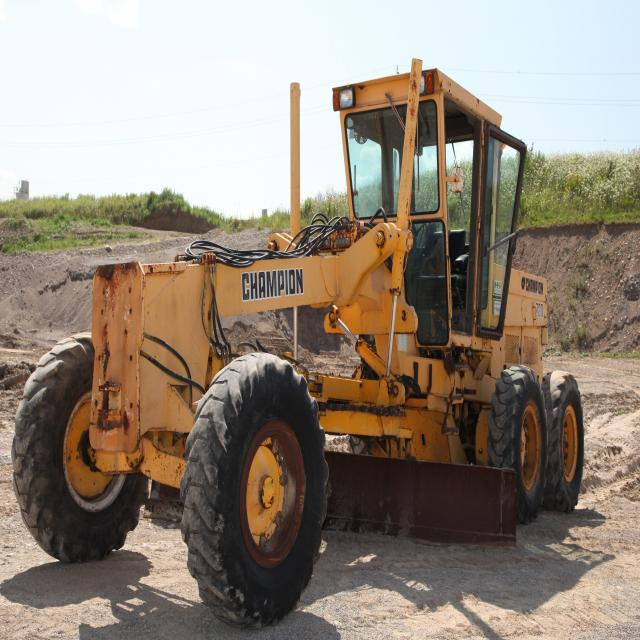Grader: (17, 36, 586, 614)
